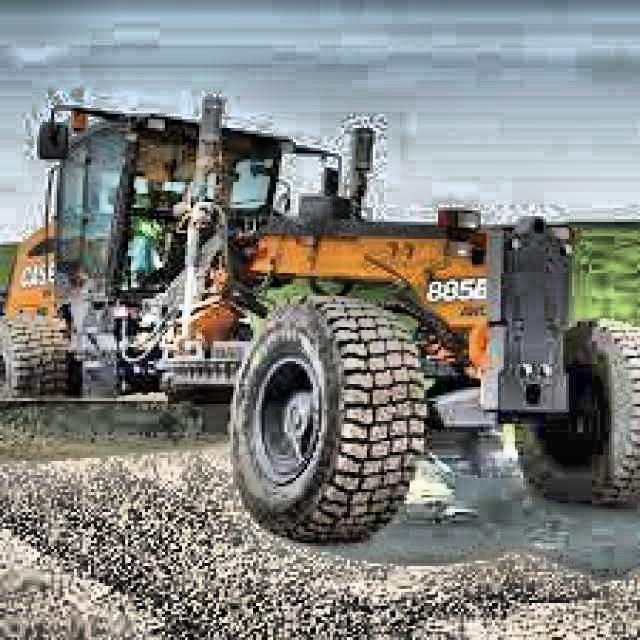bull_dozer/loader/grader: (4, 91, 640, 553)
person: (136, 157, 170, 270)
